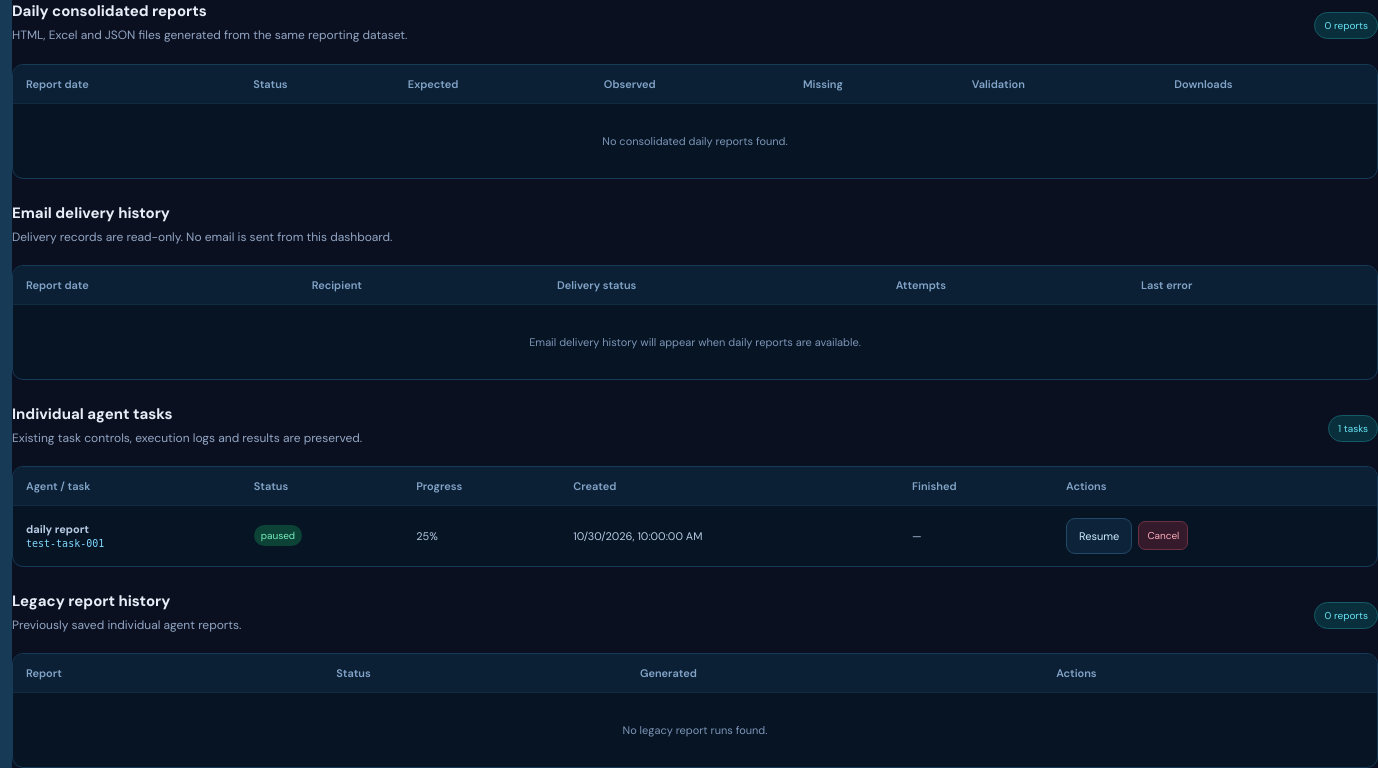
Scenario: AgentMonitoring › resumes a paused task after confirmation
(page scrolled)
Expected: the text "test-task-001" is shown, [26,538,104,549]
Click the button "Resume".
click(1099, 536)  # box [1066,518,1132,554]
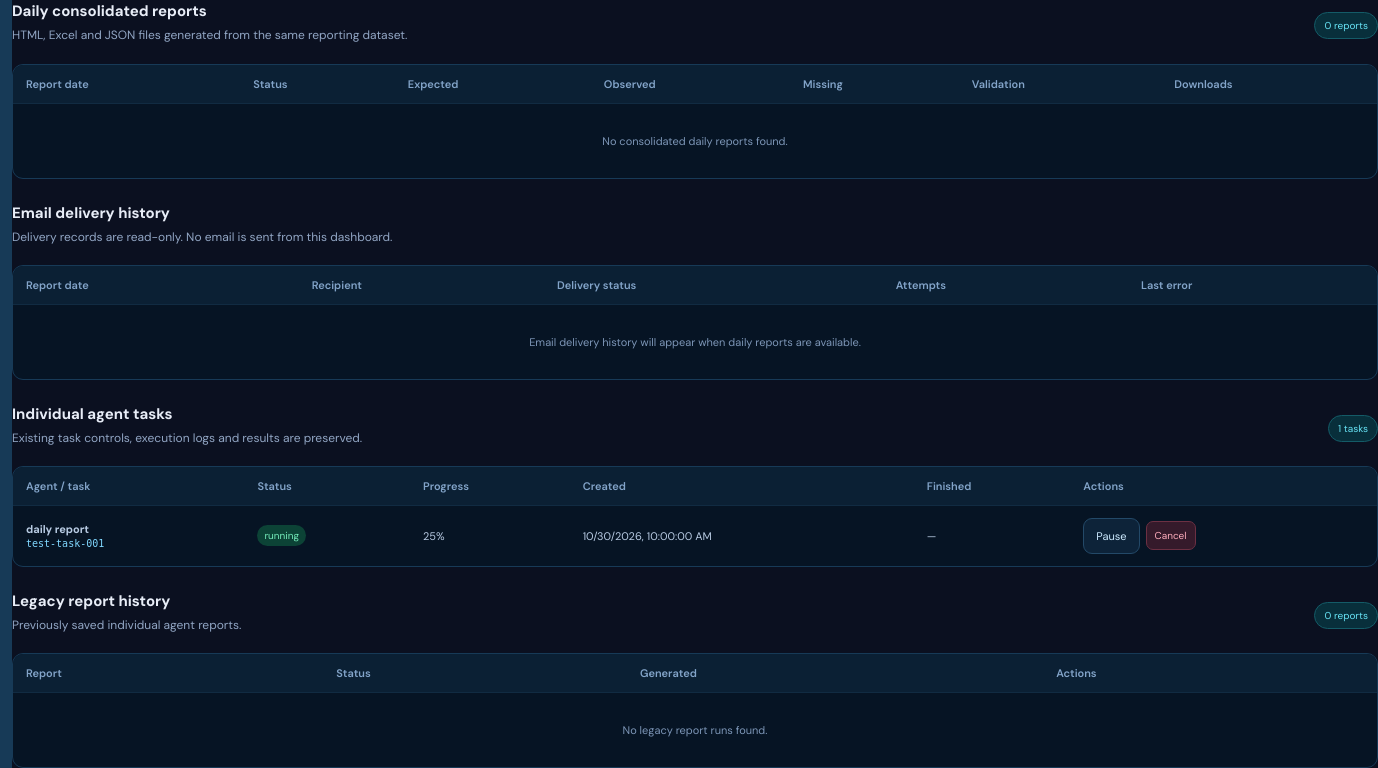
Expected: the text "running" is shown, [257,525,306,546]
